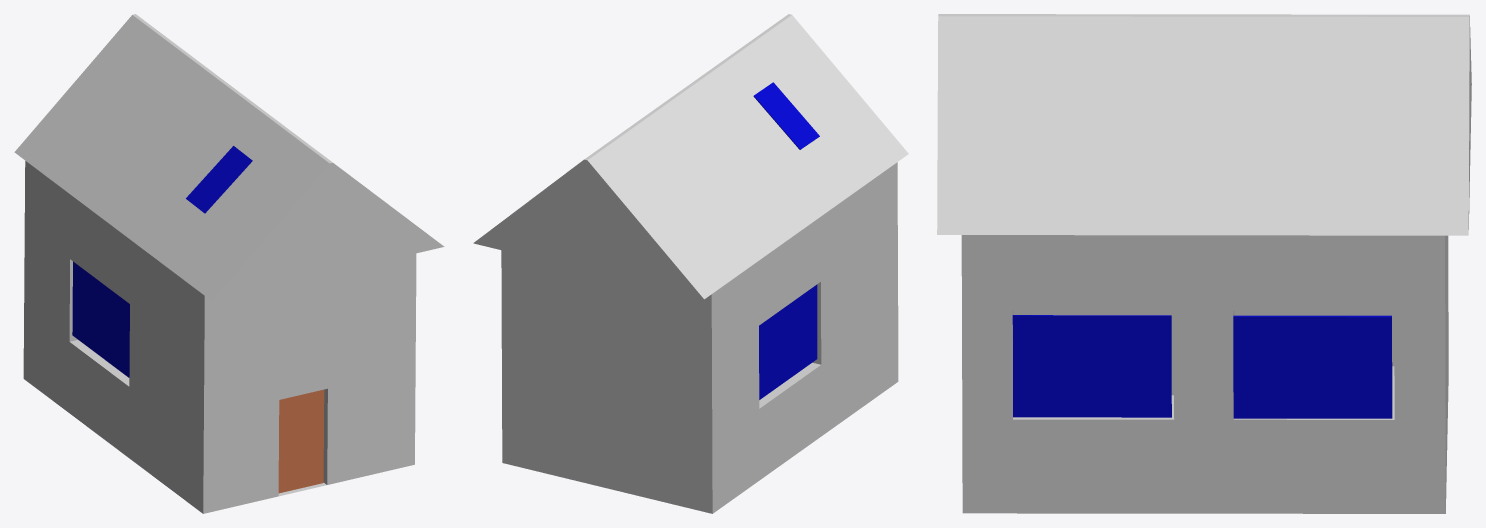
File: house.dae
The picture shows the model from 3 angles, left to right: view 1: azimuth 30°, elevation 25°; view 2: azimuth 150°, elevation 25°; view 3: azimuth 270°, elevation 25°; orthographic projection. The views are drawn at different scales.
Parts seen in each view (by area): view 1: Haus_001, Dach_001, Cube_001_001, Cube_003_001, Cube_004_001; view 2: Haus_001, Dach_001, Cube_001_001, Cube_004_001; view 3: Dach_001, Haus_001, Cube_000_001, Cube_002_001.
Boxes of the visible parts, left/top/right/bottom form: Haus_001: left=23, top=161, right=416, bottom=513; Dach_001: left=14, top=14, right=444, bottom=300; Cube_001_001: left=72, top=261, right=129, bottom=377; Cube_003_001: left=278, top=389, right=324, bottom=493; Cube_004_001: left=186, top=146, right=252, bottom=213; Haus_001: left=501, top=162, right=898, bottom=513; Dach_001: left=473, top=14, right=908, bottom=299; Cube_001_001: left=759, top=284, right=817, bottom=399; Cube_004_001: left=753, top=82, right=819, bottom=149; Dach_001: left=937, top=14, right=1471, bottom=235; Haus_001: left=961, top=235, right=1448, bottom=513; Cube_000_001: left=1233, top=315, right=1392, bottom=418; Cube_002_001: left=1012, top=315, right=1171, bottom=417.
Bounding box in the file's own units: 3.76 × 5.6 × 5.08.
